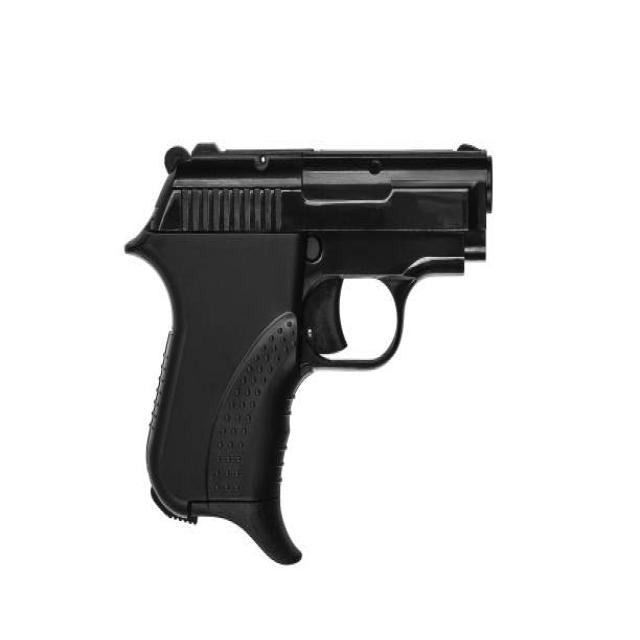pistol: (120, 140, 497, 567)
